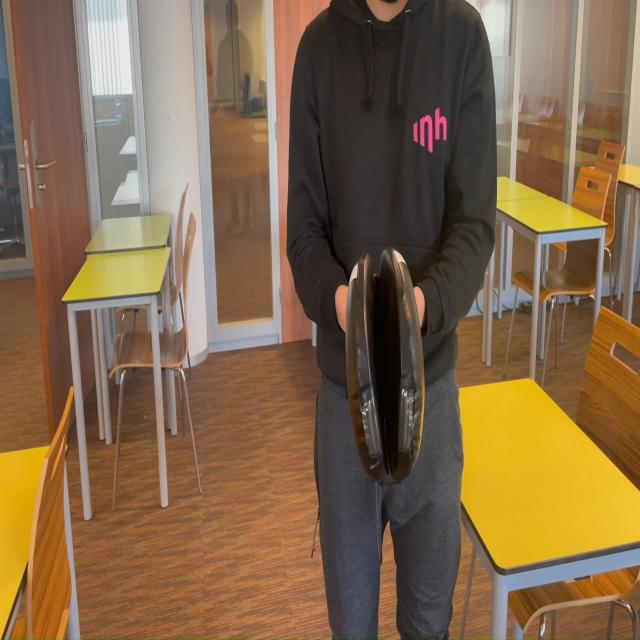paddle: (348, 258, 425, 482)
